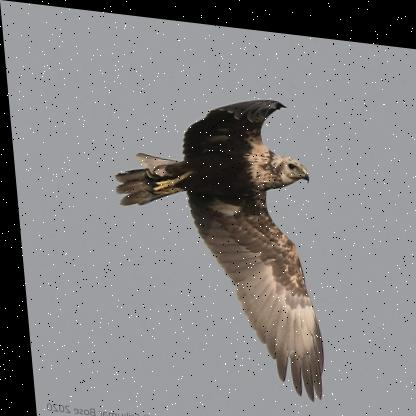Burung: (103, 75, 326, 394)
